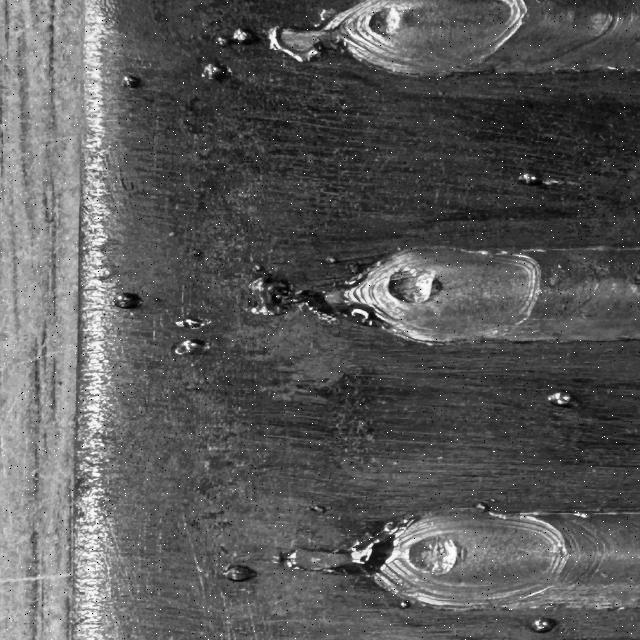Excess Reinforcement: (267, 12, 345, 61), (252, 275, 293, 315)
Spatters: (175, 339, 210, 355), (223, 565, 257, 581), (113, 292, 142, 309), (202, 62, 227, 80), (532, 618, 557, 632), (176, 319, 210, 329), (548, 392, 572, 406), (233, 29, 252, 44), (123, 75, 143, 89), (518, 175, 542, 186), (217, 36, 228, 46), (475, 502, 488, 510), (325, 256, 338, 264), (400, 600, 410, 609), (192, 250, 203, 258), (253, 265, 263, 271)
